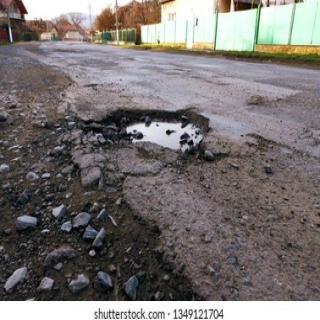pothole: (84, 108, 219, 162)
